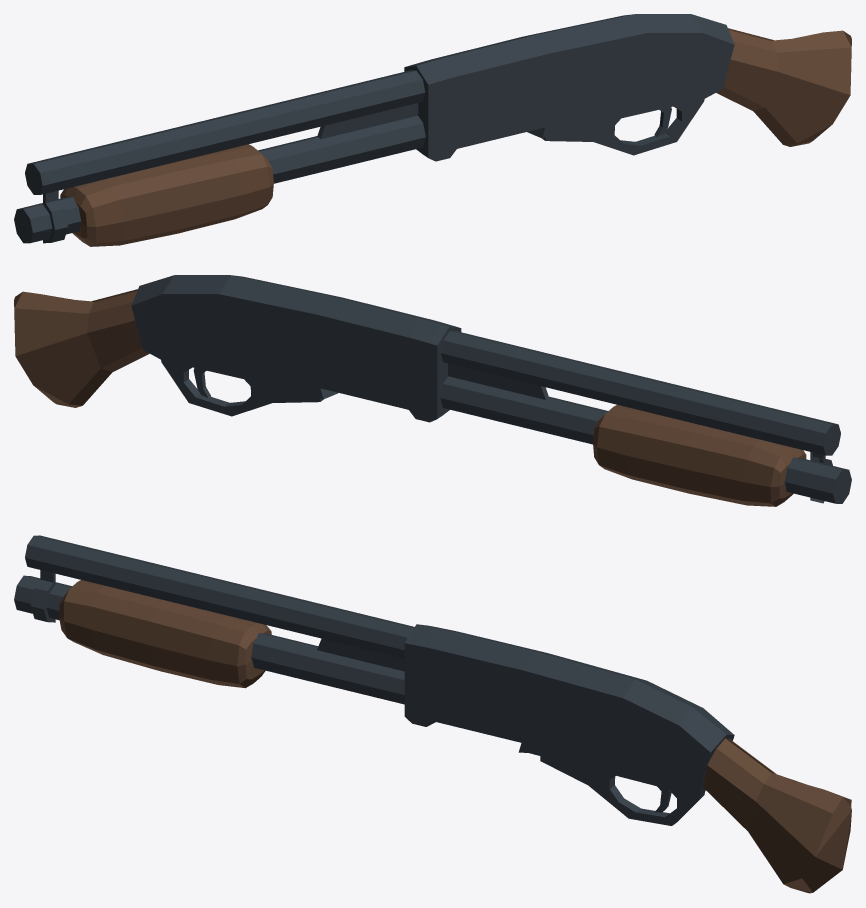
Rendered from sawed-off.fbx.
3 renders of one model, top to bottom at view 1: azimuth 30°, elevation 25°; view 2: azimuth 150°, elevation 25°; view 3: azimuth 330°, elevation 25°, orthographic.
Parts seen in each view (by area): view 1: Plane.003, pump.001; view 2: Plane.003, pump.001; view 3: Plane.003, pump.001.
Part boxes in pixels (<box>): Plane.003: <box>14,14,851,243</box>; pump.001: <box>60,144,273,246</box>; Plane.003: <box>14,275,851,503</box>; pump.001: <box>593,404,806,506</box>; Plane.003: <box>14,535,851,893</box>; pump.001: <box>59,580,271,688</box>.
Bounding box in the file's own units: 443 × 89.52 × 32.87.
